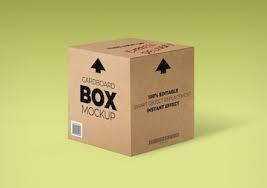box: (66, 38, 196, 158)
